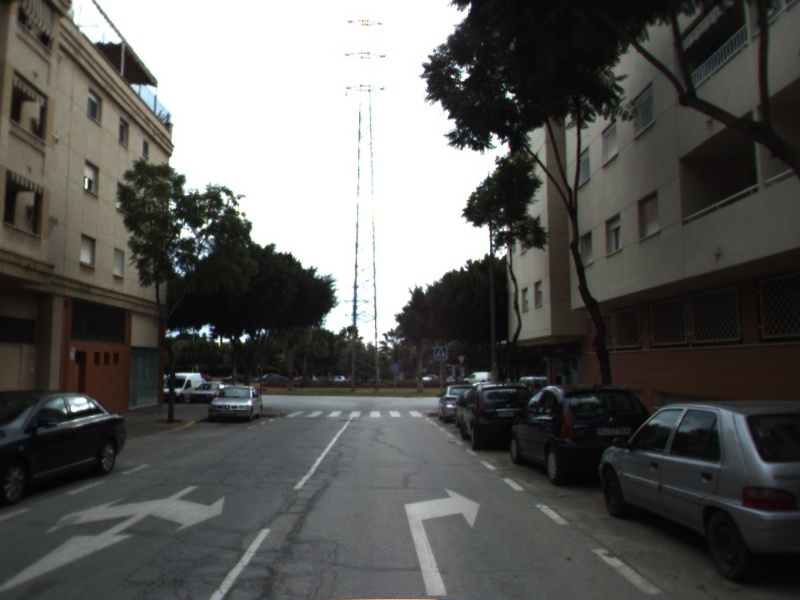RIGHT: (402, 484, 484, 598)
